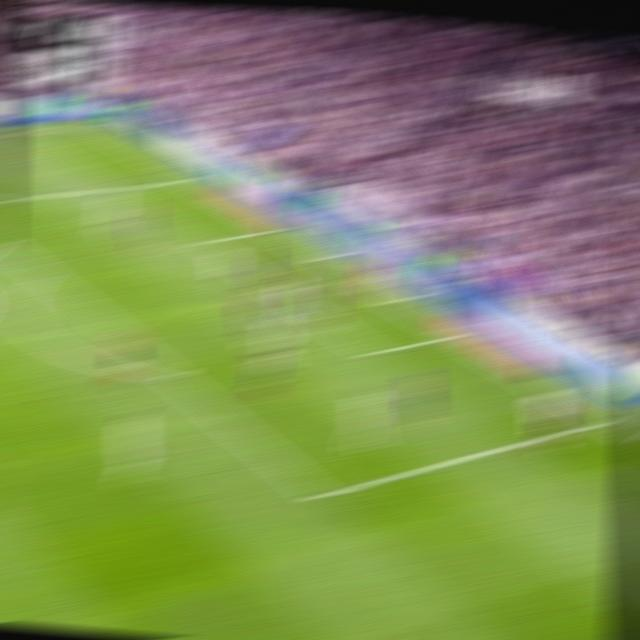bigarea_bottom_inner: (307, 480, 337, 512)
bigarea_bottom_outter: (589, 412, 616, 431)
bigarea_top_outter: (174, 172, 199, 186)
bottom_arc_area_intersection: (158, 363, 186, 388)
corner: (83, 120, 110, 133)
smallarea_bottom_inner: (362, 342, 388, 362)
smallarea_top_inner: (190, 232, 216, 251)
top_arc_area_intersection: (32, 266, 58, 284)
